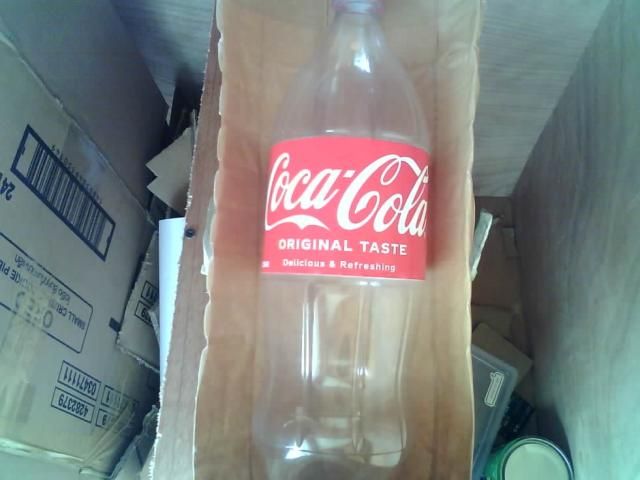large_bottle: (241, 0, 440, 480)
